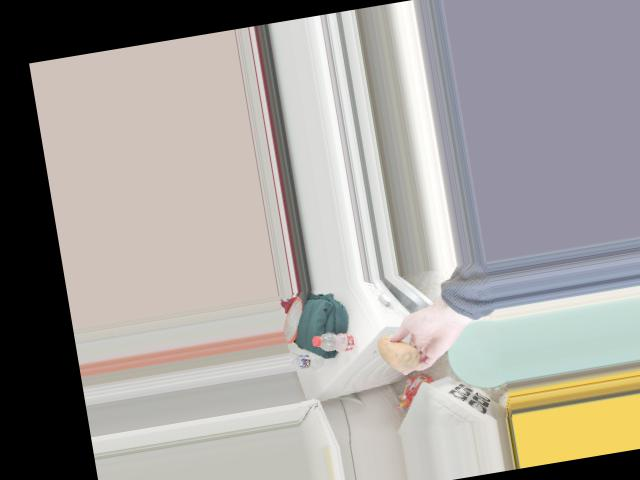sweet_potato: (375, 325, 426, 371)
